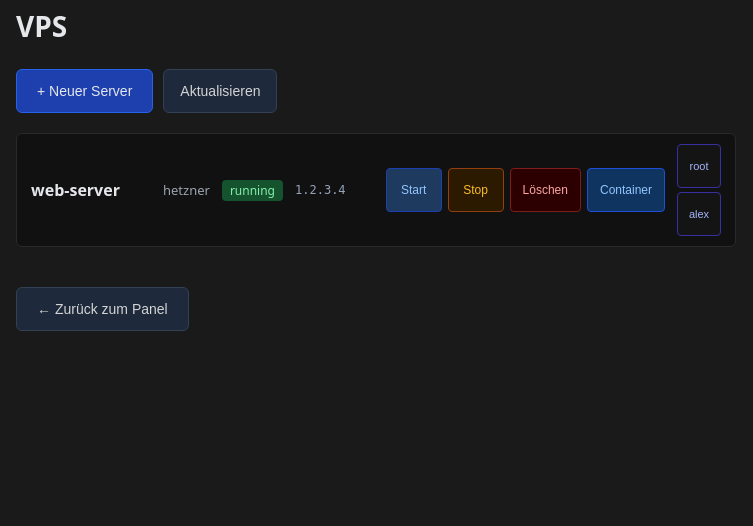
it: VpsContainerScanButton — AC10: Knopf-Aktivierung › unmanaged + laufender Container: Scan-Knopf ist disabled
Click the button "Container": x=626, y=190 [587, 168, 665, 212]
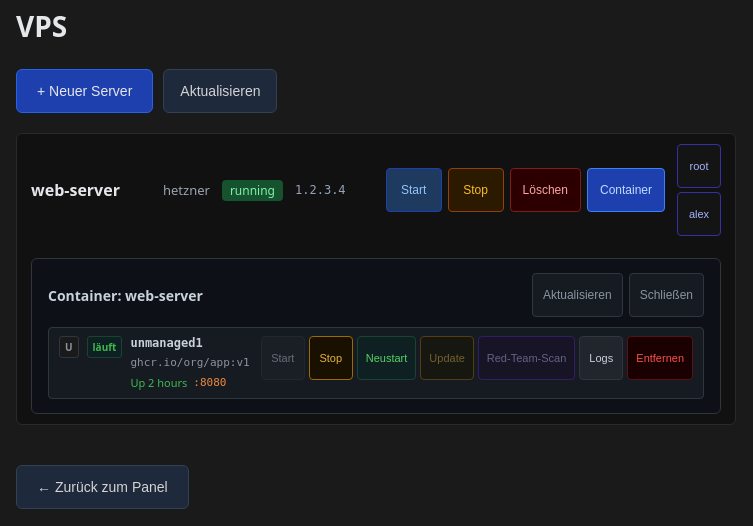
Result: the button with aria-label "red-team-scan für container unmanaged1" is disabled at [478, 336, 575, 380]
